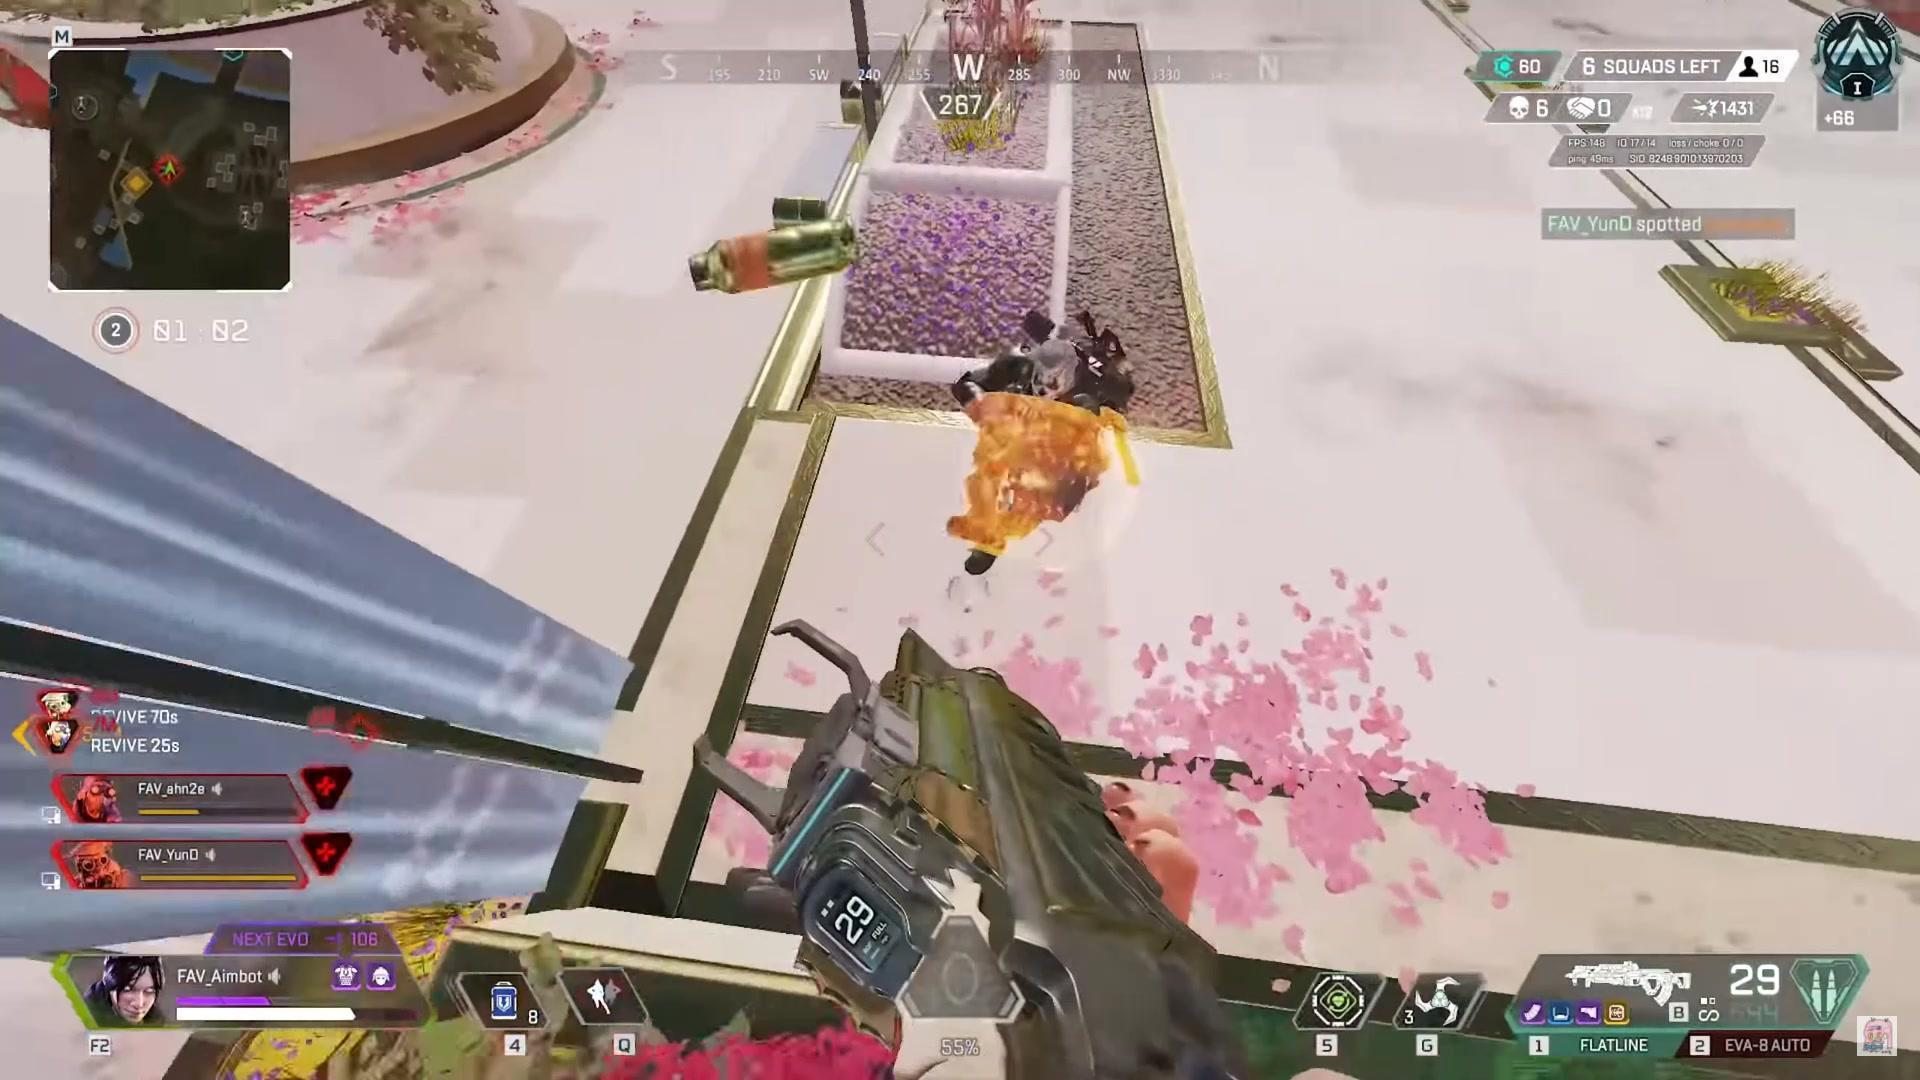avatar: (950, 306, 1137, 583)
